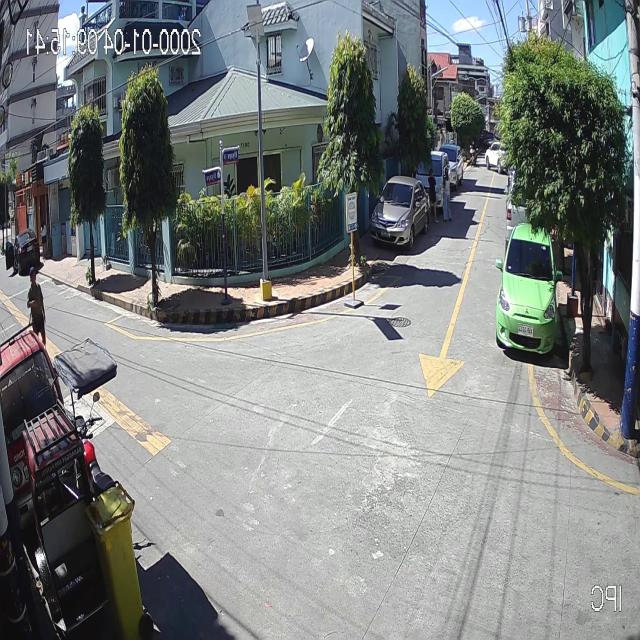walking: (26, 266, 47, 341), (41, 220, 48, 259)
